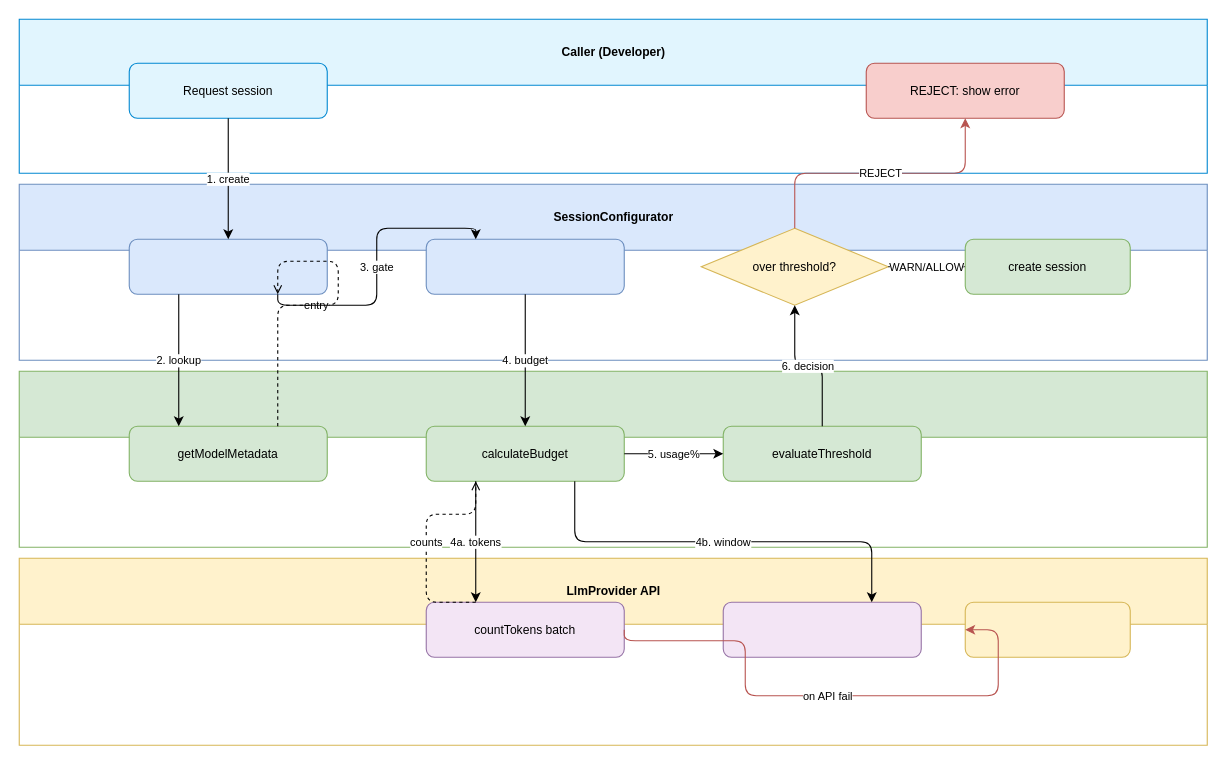
The diagram is 1227 pixels wide and 765 high, and some of its shapes have lost their labels. The box of each missing label's shape, as (x1, y1, x2, y2) in pixels:
enforceBudgetGate: (425, 238, 624, 294)
fallback /4 + warn: (964, 601, 1130, 657)
getContextWindow: (722, 601, 921, 657)
Registry / Budget / Gate: (18, 370, 1207, 547)
resolveModel: (128, 238, 327, 294)
